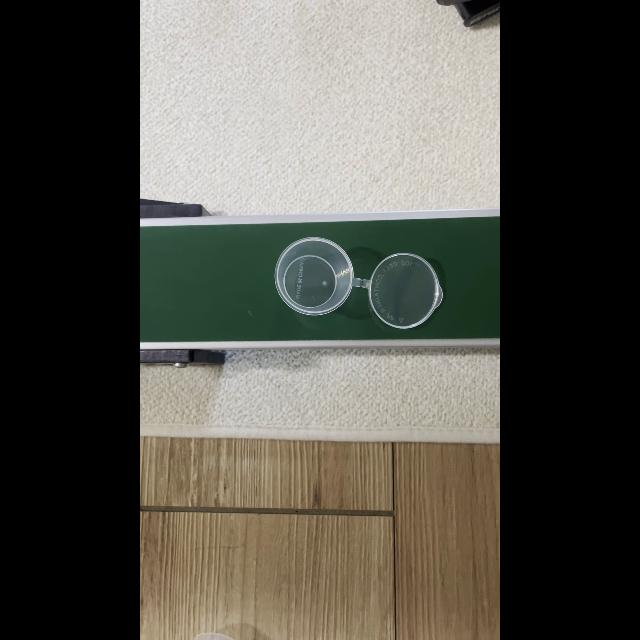clean: (274, 242, 348, 314), (373, 254, 435, 326)
